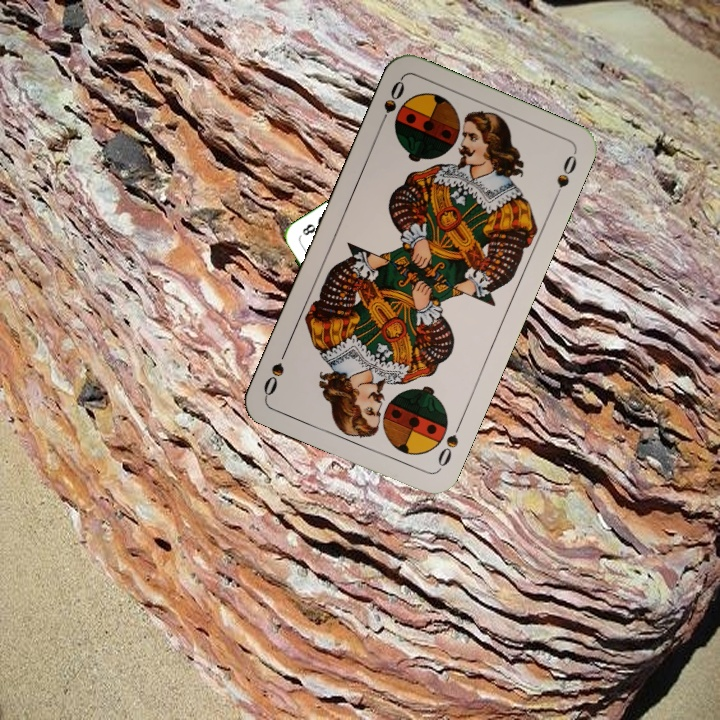SO: (374, 75, 408, 131), (433, 416, 465, 473)
